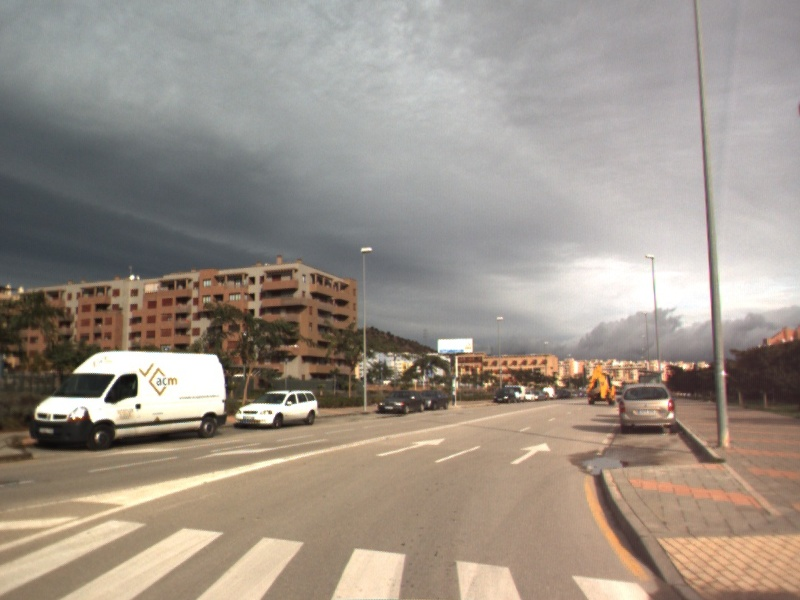STRAIGHT: (374, 436, 447, 458), (509, 440, 553, 466)
